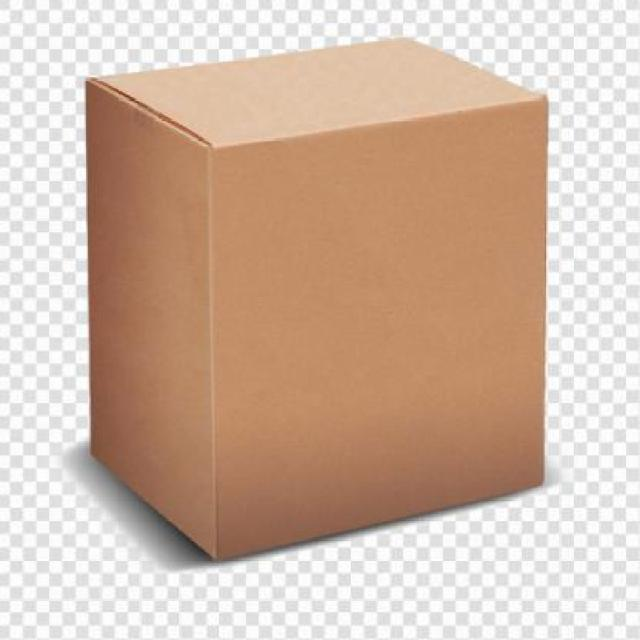cardboxes: (90, 38, 548, 560)
